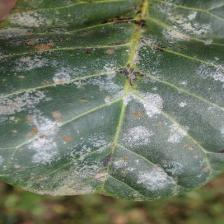red rust: (0, 0, 223, 200)
